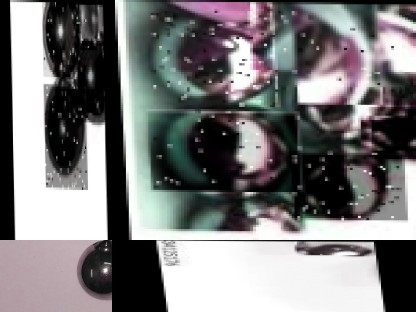ironball: (142, 109, 298, 192), (145, 9, 274, 106), (269, 2, 400, 86), (285, 150, 402, 220), (42, 83, 86, 188), (41, 1, 79, 77), (366, 106, 415, 159), (75, 39, 104, 122), (73, 241, 113, 295), (294, 241, 375, 255), (77, 3, 101, 30)
